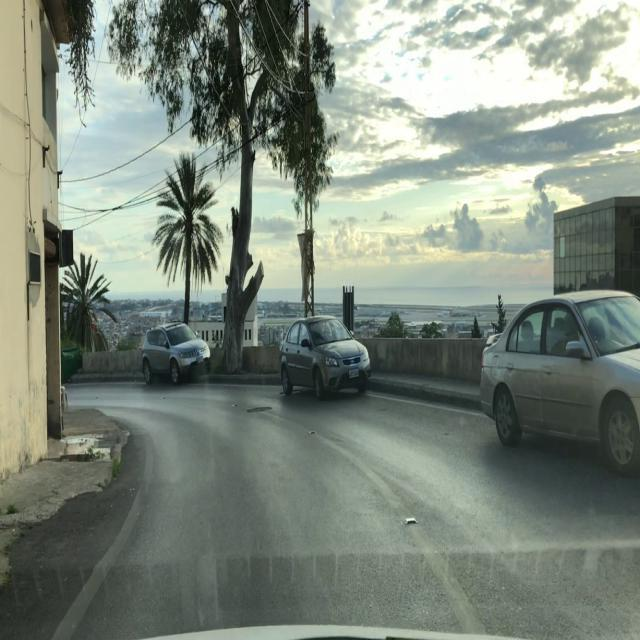pothole: (245, 405, 274, 418)
